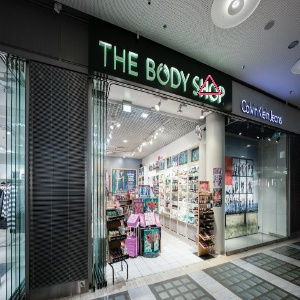triangle: (197, 72, 223, 98)
